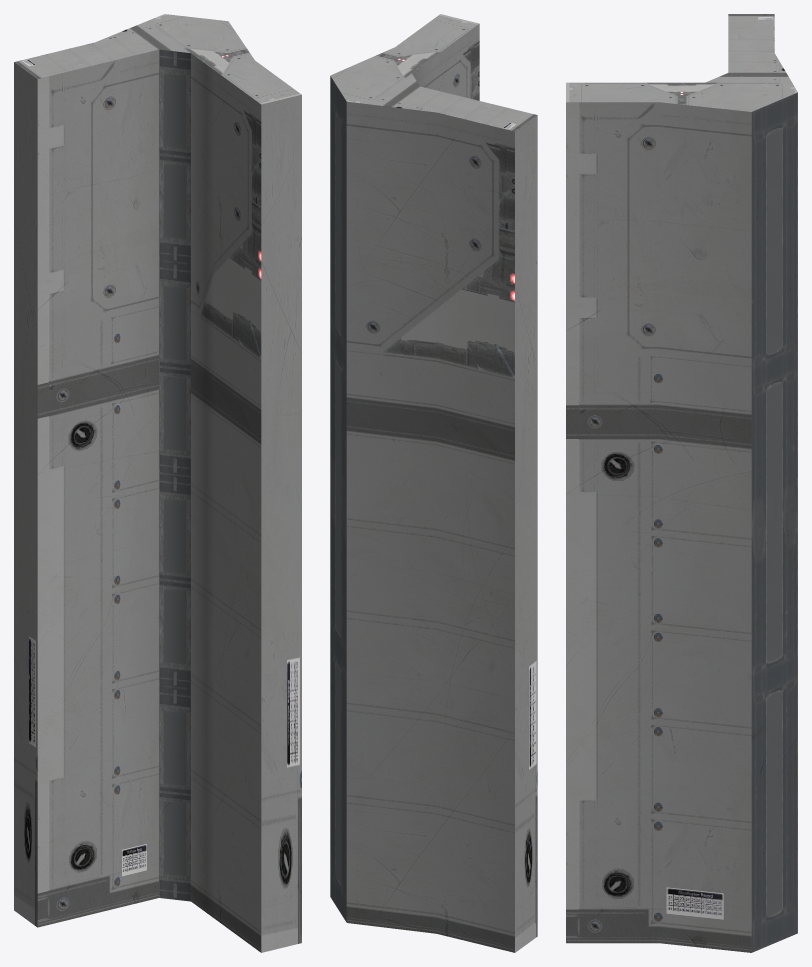
The model's file is SM_Walls_CURVED12.fbx.
The picture shows the model from 3 angles, left to right: view 1: azimuth 30°, elevation 25°; view 2: azimuth 150°, elevation 25°; view 3: azimuth 270°, elevation 25°; orthographic projection. The views are drawn at different scales.
Parts seen in each view (by area): view 1: SM_Walls_CURVED12_LOD0; view 2: SM_Walls_CURVED12_LOD0; view 3: SM_Walls_CURVED12_LOD0.
Boxes of the visible parts, bbox=[...] form: SM_Walls_CURVED12_LOD0: bbox=[14, 14, 301, 952]; SM_Walls_CURVED12_LOD0: bbox=[330, 14, 537, 952]; SM_Walls_CURVED12_LOD0: bbox=[566, 14, 797, 952].
Bounding box in the file's own units: 100 × 100 × 400.
2 materials, 2 textured.
